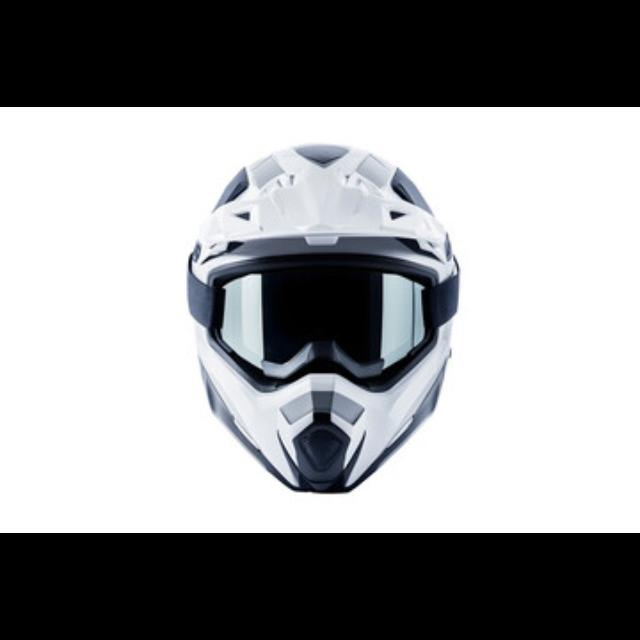motorcycle-helmets: (178, 144, 478, 498)
